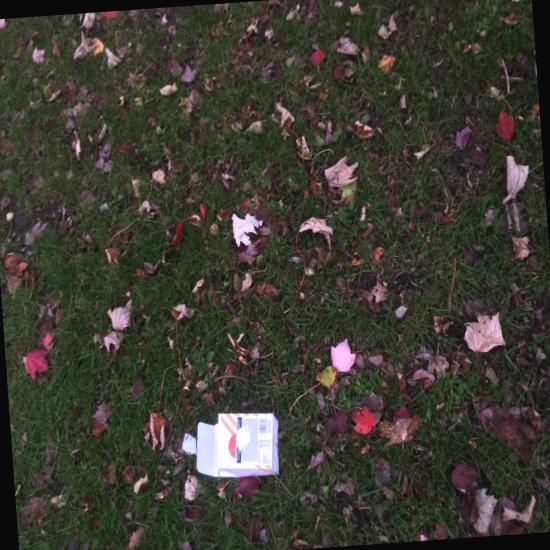Meal carton: (192, 413, 279, 477)
Plastic film: (181, 432, 197, 456)
